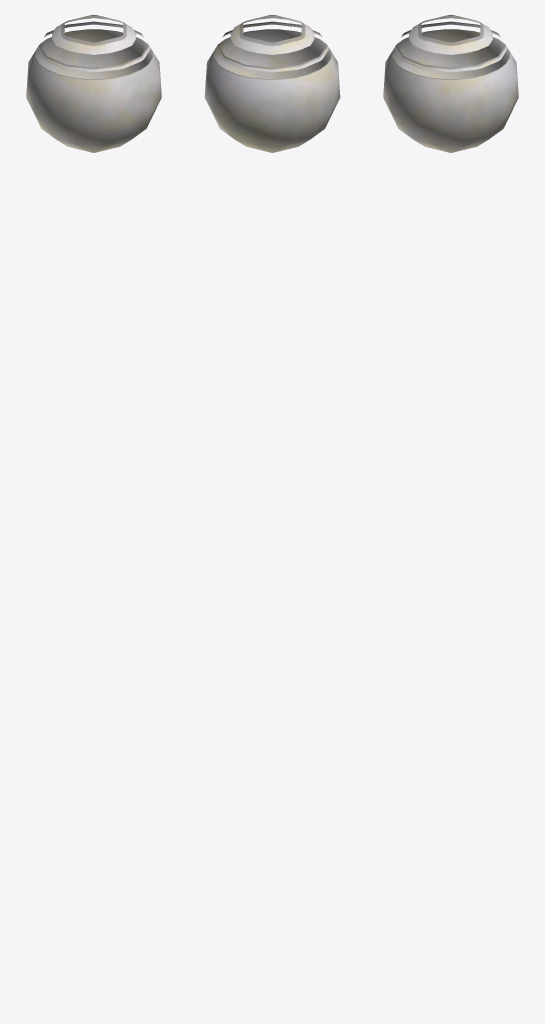
The model's file is mun_all_imprv_streetlamp_sm_s02_l0.fbx.
3 views of the same model, side by side, from view 1: azimuth 90°, elevation 25°; view 2: azimuth 150°, elevation 25°; view 3: azimuth 270°, elevation 25° (orthographic).
Parts seen in each view (by area): view 1: mesh_node; view 2: mesh_node; view 3: mesh_node.
Part boxes in pixels (x1=…): mesh_node: x1=26, y1=15, x2=161, y2=152; mesh_node: x1=204, y1=15, x2=340, y2=152; mesh_node: x1=383, y1=15, x2=518, y2=152.
Bounding box in the file's own units: 0.3084 × 2.11 × 0.3084.
1 material, 1 textured.
